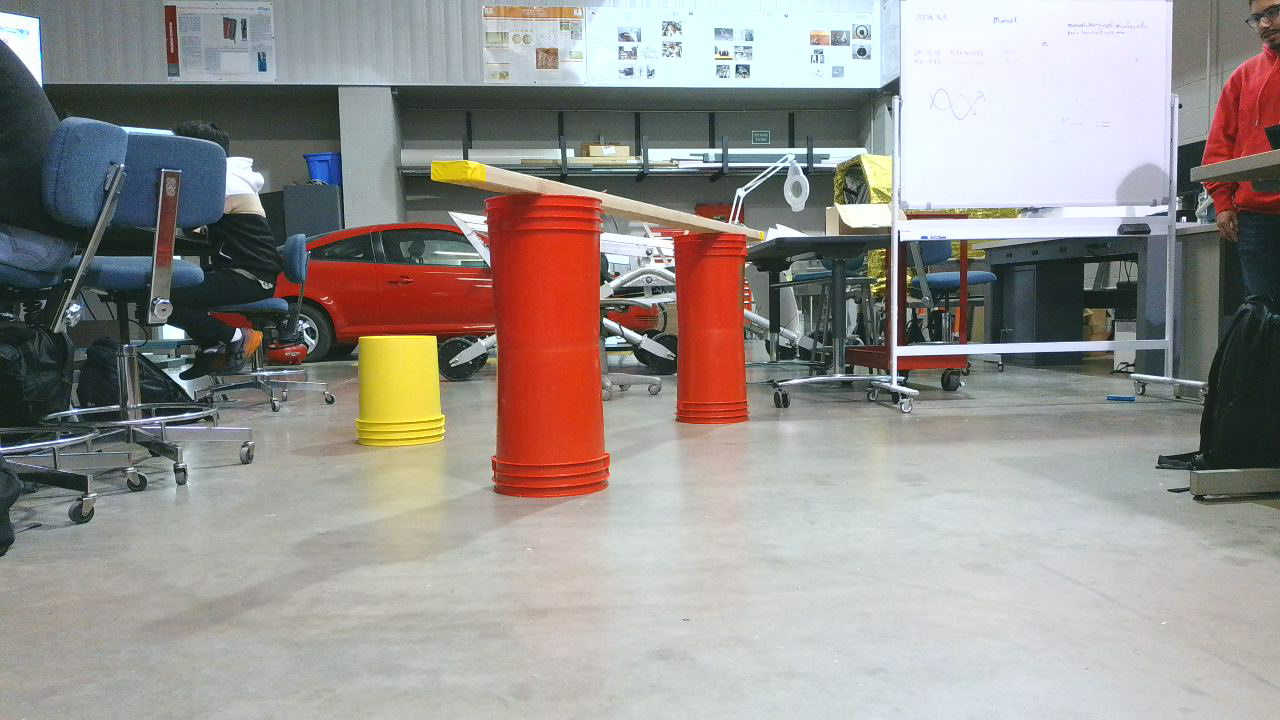red_bucket_arch: (475, 152, 765, 495)
yellow_bucket: (361, 340, 450, 453)
